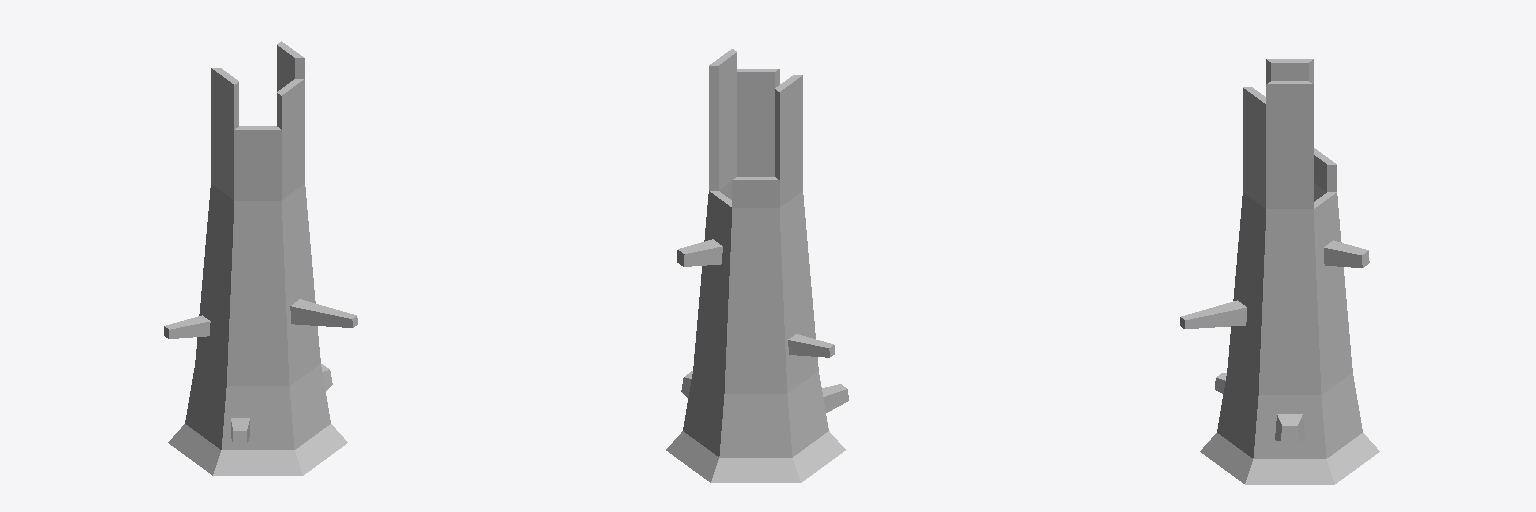
Rendered from trunkLong.obj.
3 renders of one model, left to right at view 1: azimuth 30°, elevation 25°; view 2: azimuth 150°, elevation 25°; view 3: azimuth 270°, elevation 25°, orthographic.
Visible parts, largest first — view 1: trunkLong; view 2: trunkLong; view 3: trunkLong.
Boxes of the visible parts, x1,y1,x2,y2 form: trunkLong: [164, 41, 357, 475]; trunkLong: [666, 49, 848, 482]; trunkLong: [1180, 59, 1379, 484].
Bounding box in the file's own units: 0.5442 × 1.29 × 0.6118.